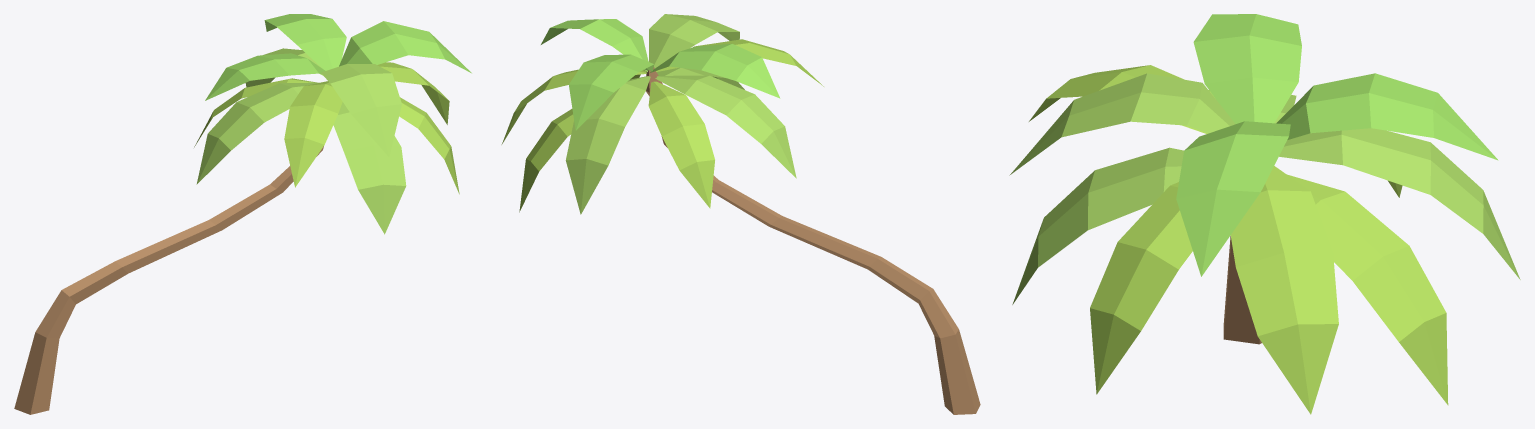
Rendered from Palm_Tree_l_05.fbx.
3 renders of one model, left to right at view 1: azimuth 30°, elevation 25°; view 2: azimuth 150°, elevation 25°; view 3: azimuth 270°, elevation 25°, orthographic. The views are drawn at different scales.
Parts seen in each view (by area): view 1: Palm_Tree_l_05; view 2: Palm_Tree_l_05; view 3: Palm_Tree_l_05.
Boxes of the visible parts, left/top/right/bottom form: Palm_Tree_l_05: left=14, top=14, right=471, bottom=414; Palm_Tree_l_05: left=501, top=14, right=980, bottom=414; Palm_Tree_l_05: left=1009, top=14, right=1520, bottom=414.
Bounding box in the file's own units: 762 × 470 × 434.
